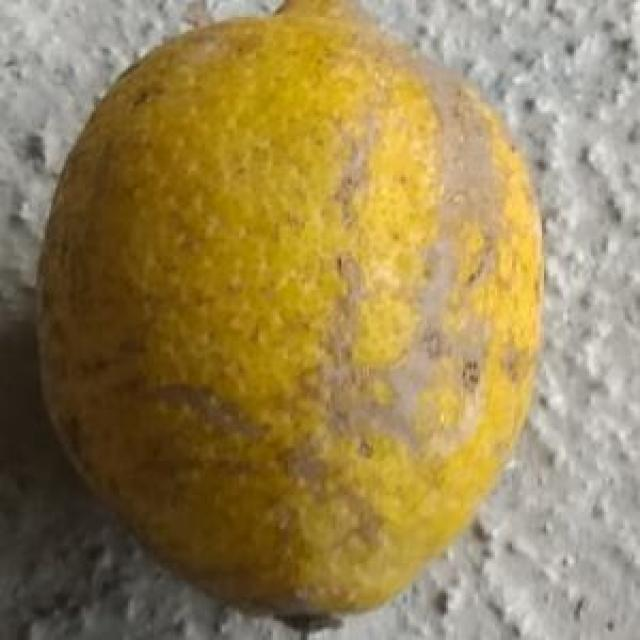lemon: (31, 2, 548, 630)
